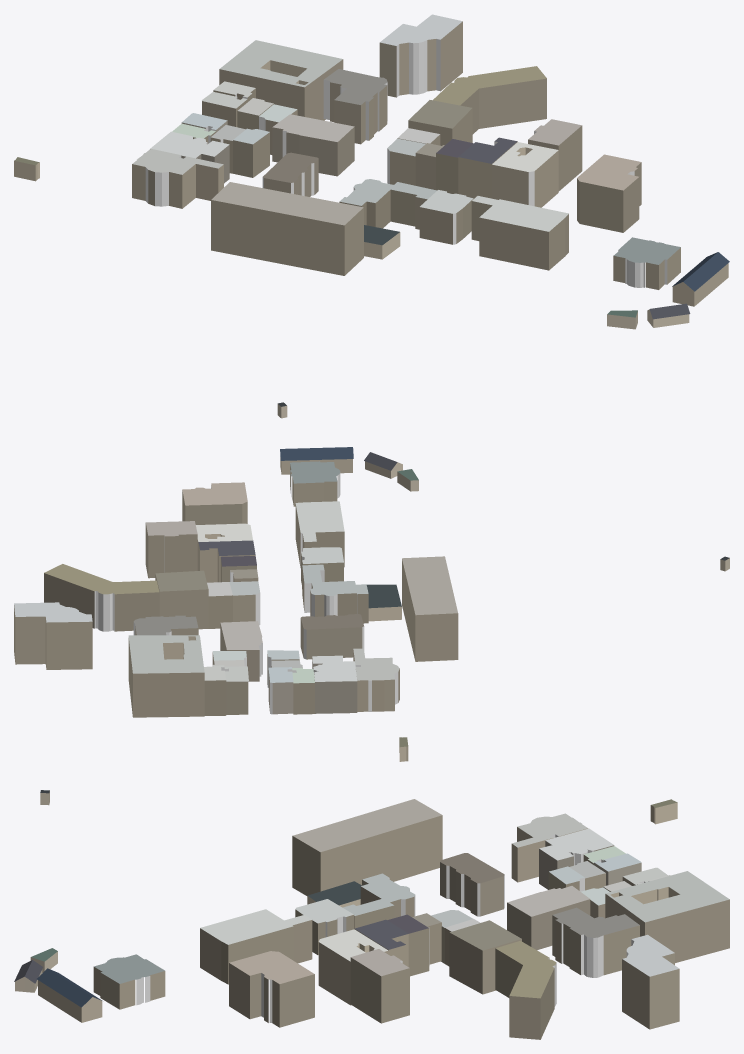
The picture shows the model from 3 angles, top to bottom: view 1: azimuth 30°, elevation 25°; view 2: azimuth 150°, elevation 25°; view 3: azimuth 270°, elevation 25°; orthographic projection. The views are drawn at different scales.
Parts seen in each view (by area): view 1: tuile; view 2: tuile; view 3: tuile.
Part boxes in pixels (box(x1,y1,x2,y2)): tuile: box(14, 14, 729, 418); tuile: box(14, 447, 729, 761); tuile: box(14, 790, 729, 1039).
Bounding box in the file's own units: 216 × 26.08 × 262.
